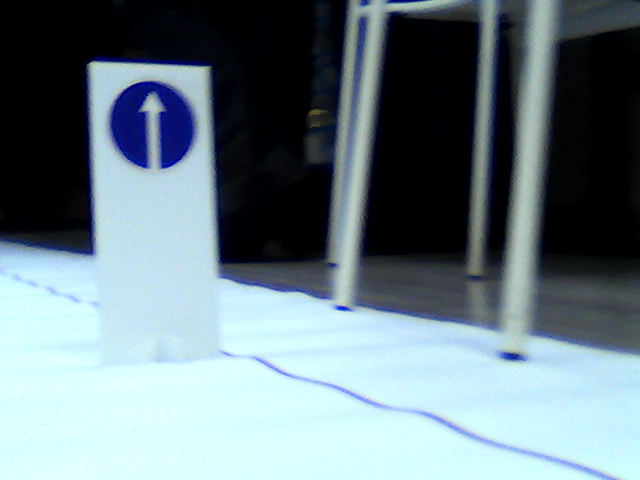forw: (110, 82, 199, 174)
